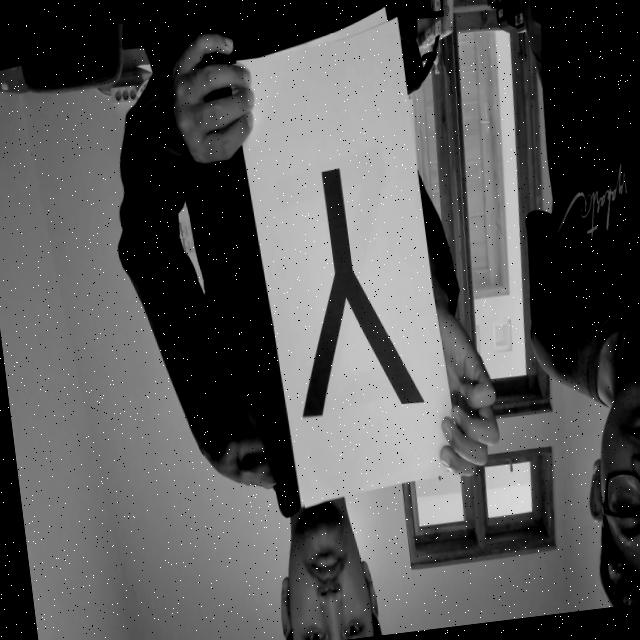y: (258, 139, 432, 434)
